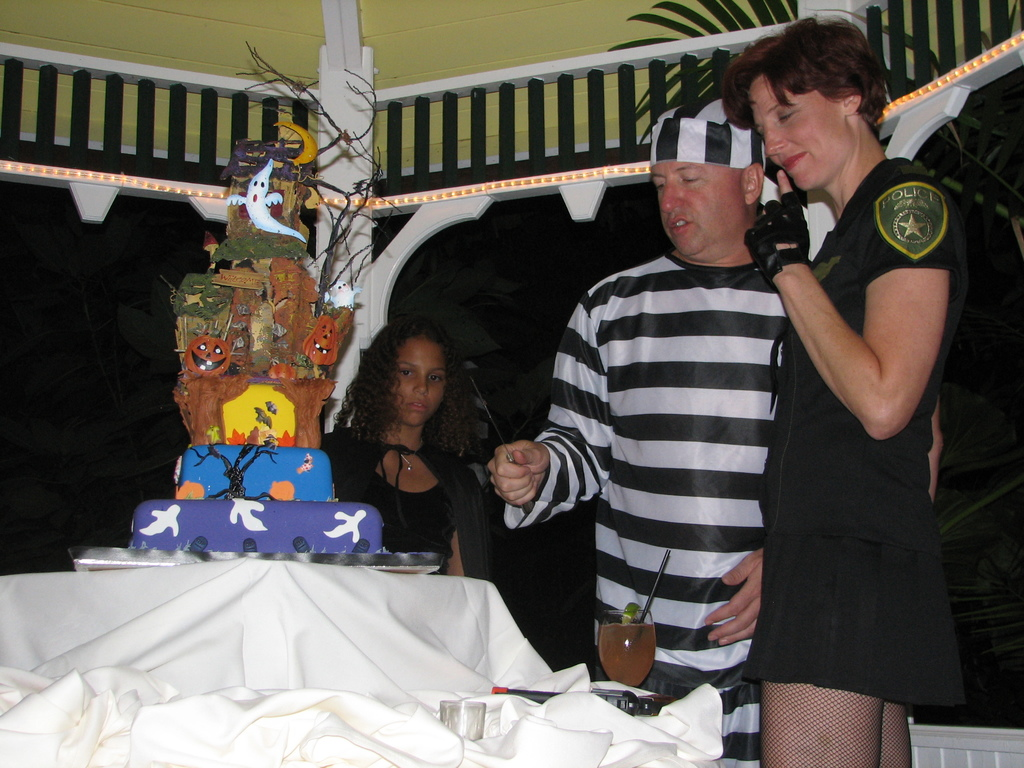cake: (129, 373, 385, 556)
